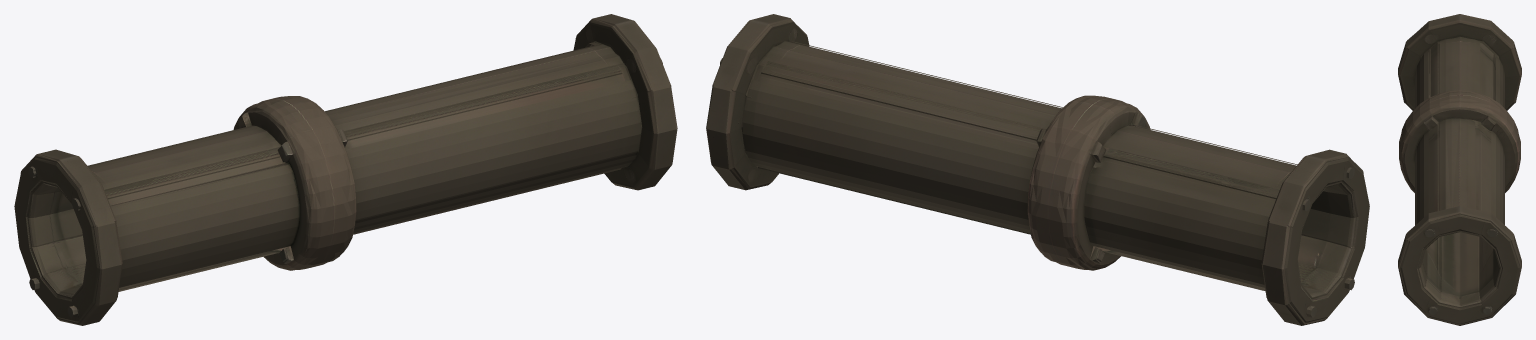
The model's file is pipe1.glb.
3 views of the same model, side by side, from view 1: azimuth 30°, elevation 25°; view 2: azimuth 150°, elevation 25°; view 3: azimuth 270°, elevation 25° (orthographic). The views are drawn at different scales.
Size of the model in its own units: 1.91 by 0.4971 by 0.4892.
1 material, 1 textured.
